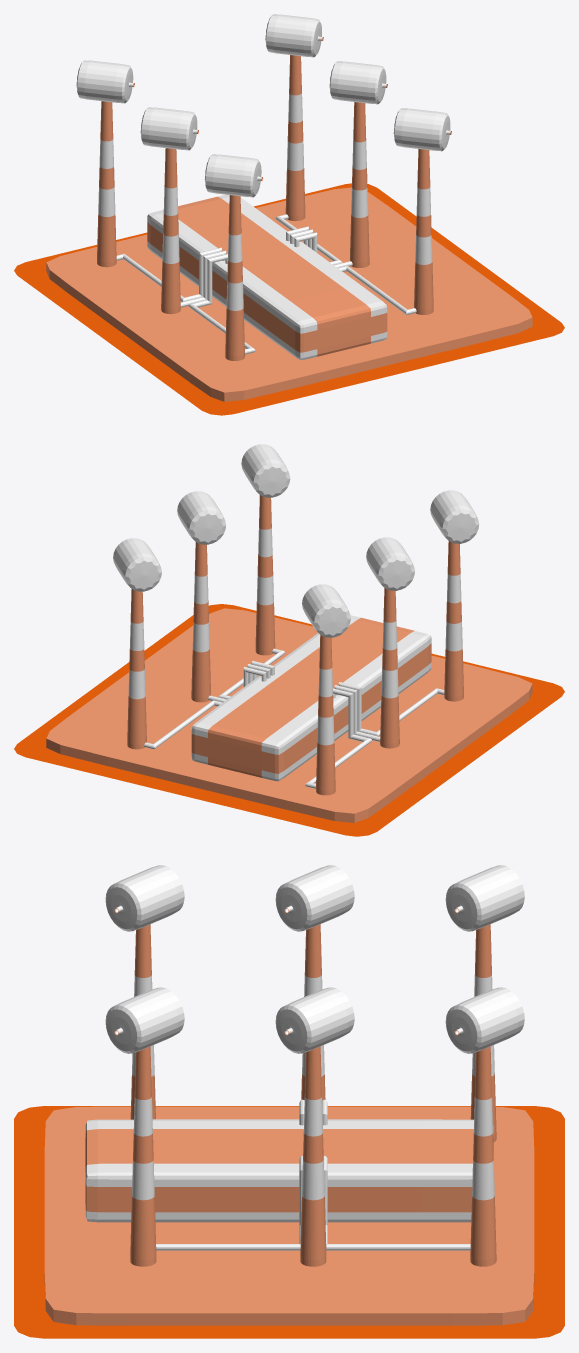
File: 1-Orange-WindTurbine.fbx
3 views of the same model, one above another, from view 1: azimuth 30°, elevation 25°; view 2: azimuth 150°, elevation 25°; view 3: azimuth 270°, elevation 25° (orthographic). The views are drawn at different scales.
Visible parts, largest first — view 1: Cube; view 2: Cube; view 3: Cube.
Boxes of the visible parts, left/top/right/bottom form: Cube: left=14, top=14, right=564, bottom=415; Cube: left=14, top=444, right=564, bottom=836; Cube: left=14, top=865, right=564, bottom=1338.
Size of the model in its own units: 810 by 447 by 810.
